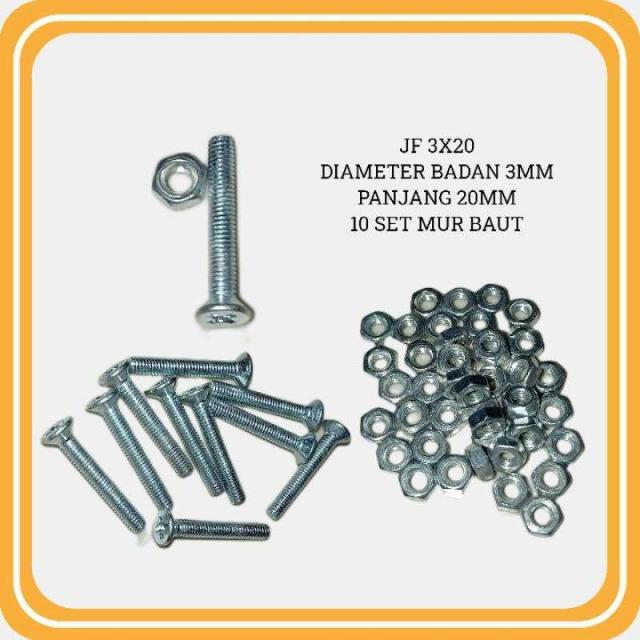Logam: (55, 92, 344, 576), (349, 260, 597, 560)
